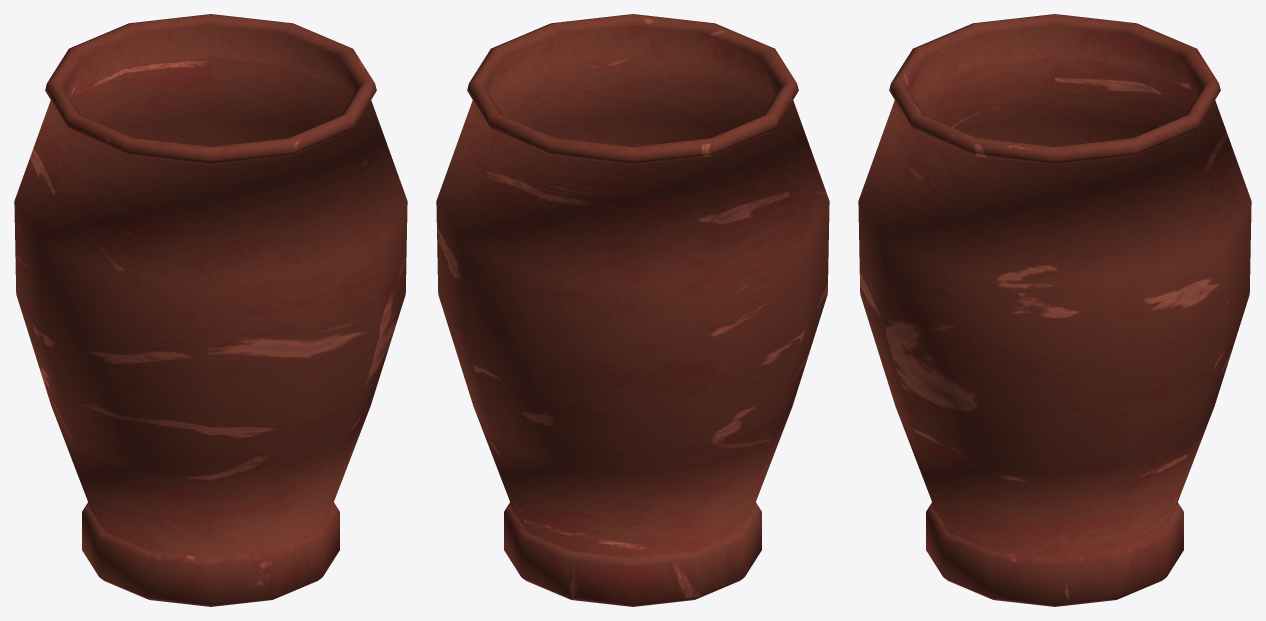
Rendered from buildig.003_clay_(red)_0_lev3.glb.
The picture shows the model from 3 angles, left to right: view 1: azimuth 30°, elevation 25°; view 2: azimuth 150°, elevation 25°; view 3: azimuth 270°, elevation 25°; orthographic projection.
Parts seen in each view (by area): view 1: buildig.003_clay_(red)_0_lev3; view 2: buildig.003_clay_(red)_0_lev3; view 3: buildig.003_clay_(red)_0_lev3.
Part boxes in pixels (<box>): buildig.003_clay_(red)_0_lev3: <box>14,14,407,606</box>; buildig.003_clay_(red)_0_lev3: <box>436,14,829,606</box>; buildig.003_clay_(red)_0_lev3: <box>858,14,1251,606</box>.
Size of the model in its own units: 0.2699 by 0.359 by 0.2699.
1 material, 1 textured.
